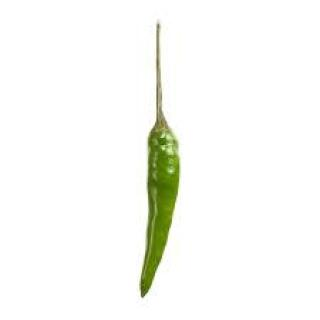Cabai Hijau: (142, 92, 183, 301)
